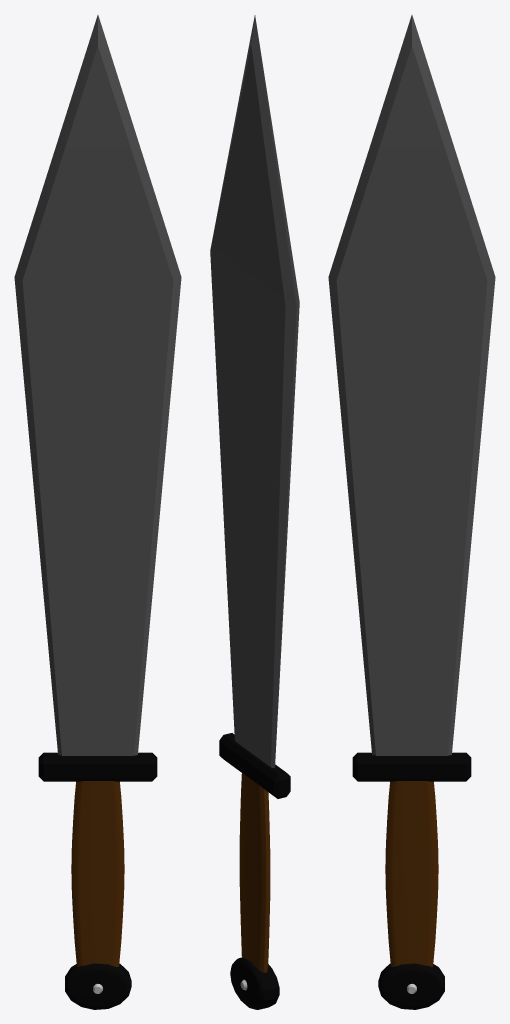
File: Sword.obj
3 views of the same model, side by side, from view 1: azimuth 90°, elevation 25°; view 2: azimuth 210°, elevation 25°; view 3: azimuth 270°, elevation 25° (orthographic).
Bounding box in the file's own units: 0.2625 × 9.79 × 1.49.
